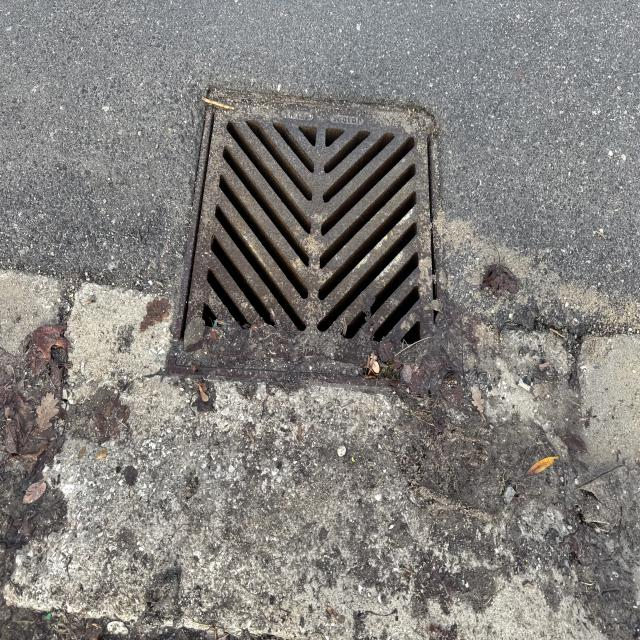Manhole: (180, 90, 442, 383)
